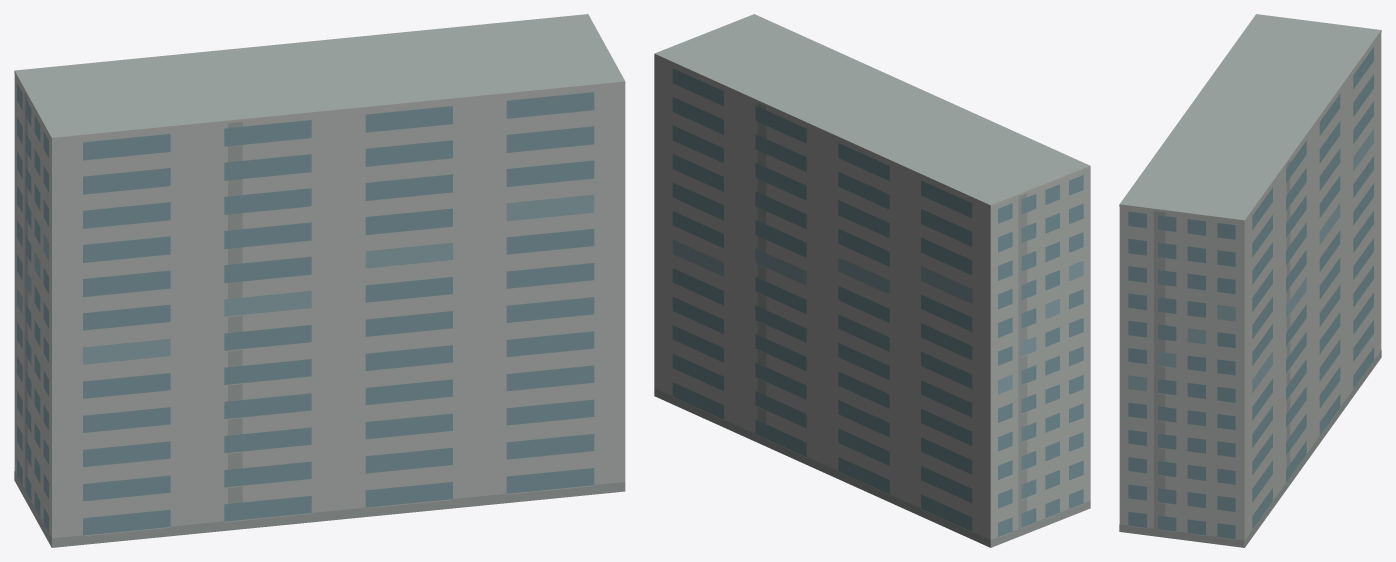
Rendered from residential-095dce3e-9782-4eba-8485-236ec8a2d602.glb.
3 views of the same model, side by side, from view 1: azimuth 30°, elevation 25°; view 2: azimuth 150°, elevation 25°; view 3: azimuth 270°, elevation 25° (orthographic). The views are drawn at different scales.
Visible parts, largest first — view 1: residential-095dce3e-9782-4eba-8485-236ec8a2d602.tmp; view 2: residential-095dce3e-9782-4eba-8485-236ec8a2d602.tmp; view 3: residential-095dce3e-9782-4eba-8485-236ec8a2d602.tmp.
Part boxes in pixels (x1,y1,x2,y2): residential-095dce3e-9782-4eba-8485-236ec8a2d602.tmp: [14, 14, 625, 547]; residential-095dce3e-9782-4eba-8485-236ec8a2d602.tmp: [654, 14, 1090, 547]; residential-095dce3e-9782-4eba-8485-236ec8a2d602.tmp: [1119, 14, 1381, 547].
Bounding box in the file's own units: 48.65 × 36 × 26.1.
